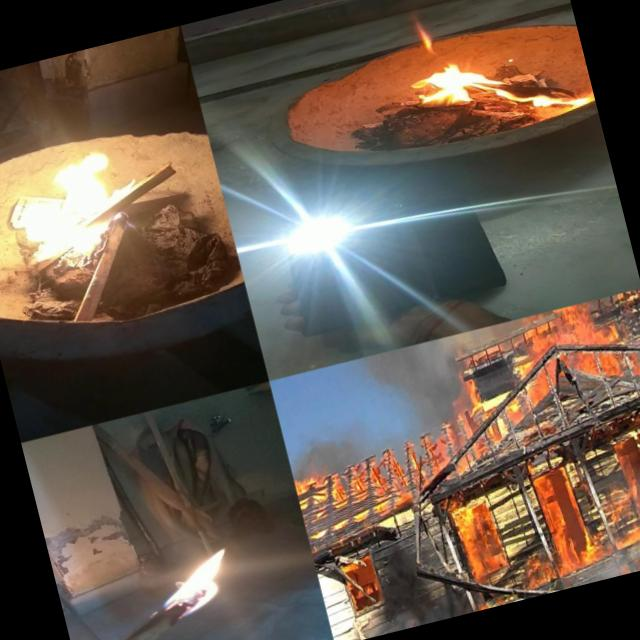fire: (437, 410, 640, 573), (455, 305, 640, 475), (0, 131, 140, 287), (411, 31, 579, 138), (289, 428, 444, 535), (128, 538, 252, 630), (470, 548, 585, 610), (428, 413, 486, 485), (536, 300, 601, 334)
smoke: (378, 354, 470, 433), (330, 594, 473, 640), (574, 530, 640, 585)
